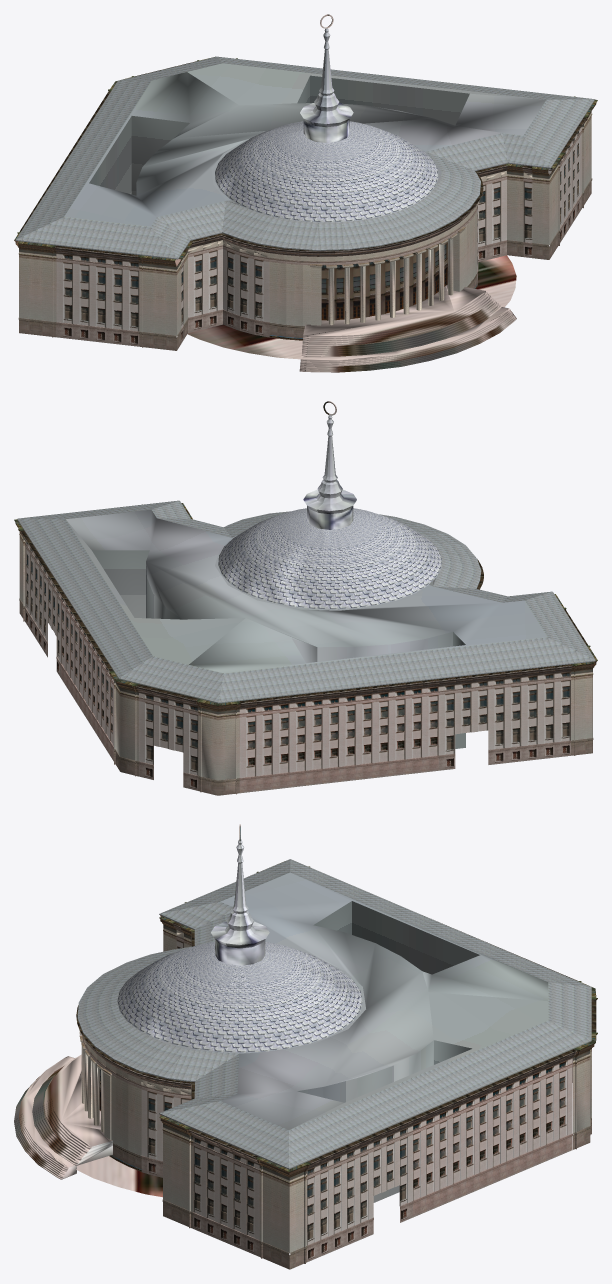
File: circus.fbx
3 renders of one model, top to bottom at view 1: azimuth 30°, elevation 25°; view 2: azimuth 150°, elevation 25°; view 3: azimuth 270°, elevation 25°, orthographic. The views are drawn at different scales.
Visible parts, largest first — view 1: Plane.013; view 2: Plane.013; view 3: Plane.013.
Part boxes in pixels (bbox=[...]): Plane.013: bbox=[14, 14, 597, 372]; Plane.013: bbox=[14, 401, 597, 795]; Plane.013: bbox=[14, 824, 597, 1269].
Bounding box in the file's own units: 46.84 × 20.82 × 37.15.
